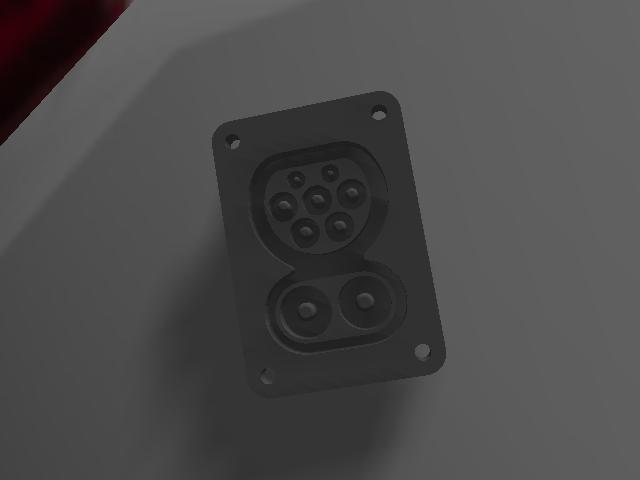EV-socket: (208, 88, 449, 404)
